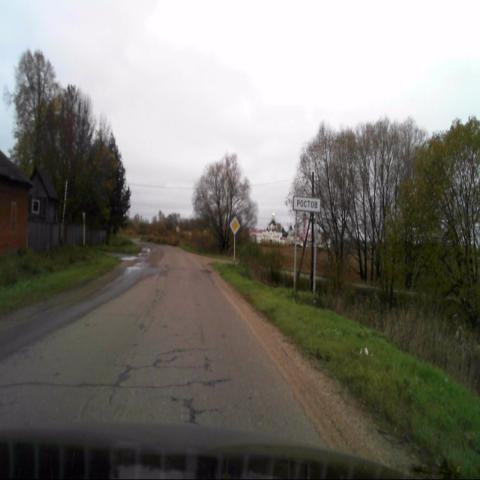2_1: (230, 216, 240, 234)
